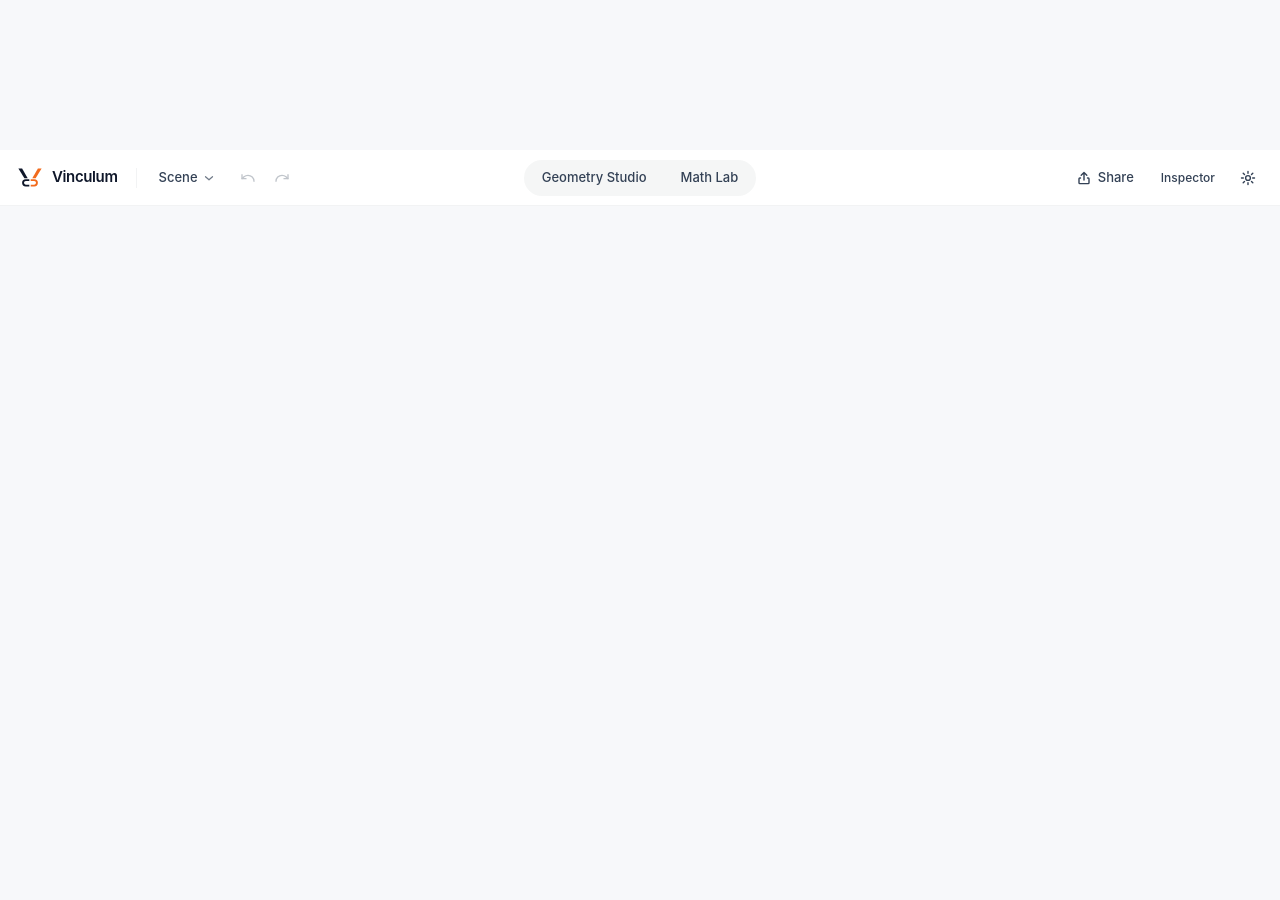
Test: PNG export feedback › clears 2D pending state after capture failure so the user can retry
This screenshot has width=1280, height=900.
Click the button "Share" at coordinates (1105, 178), box [1066, 162, 1144, 194]
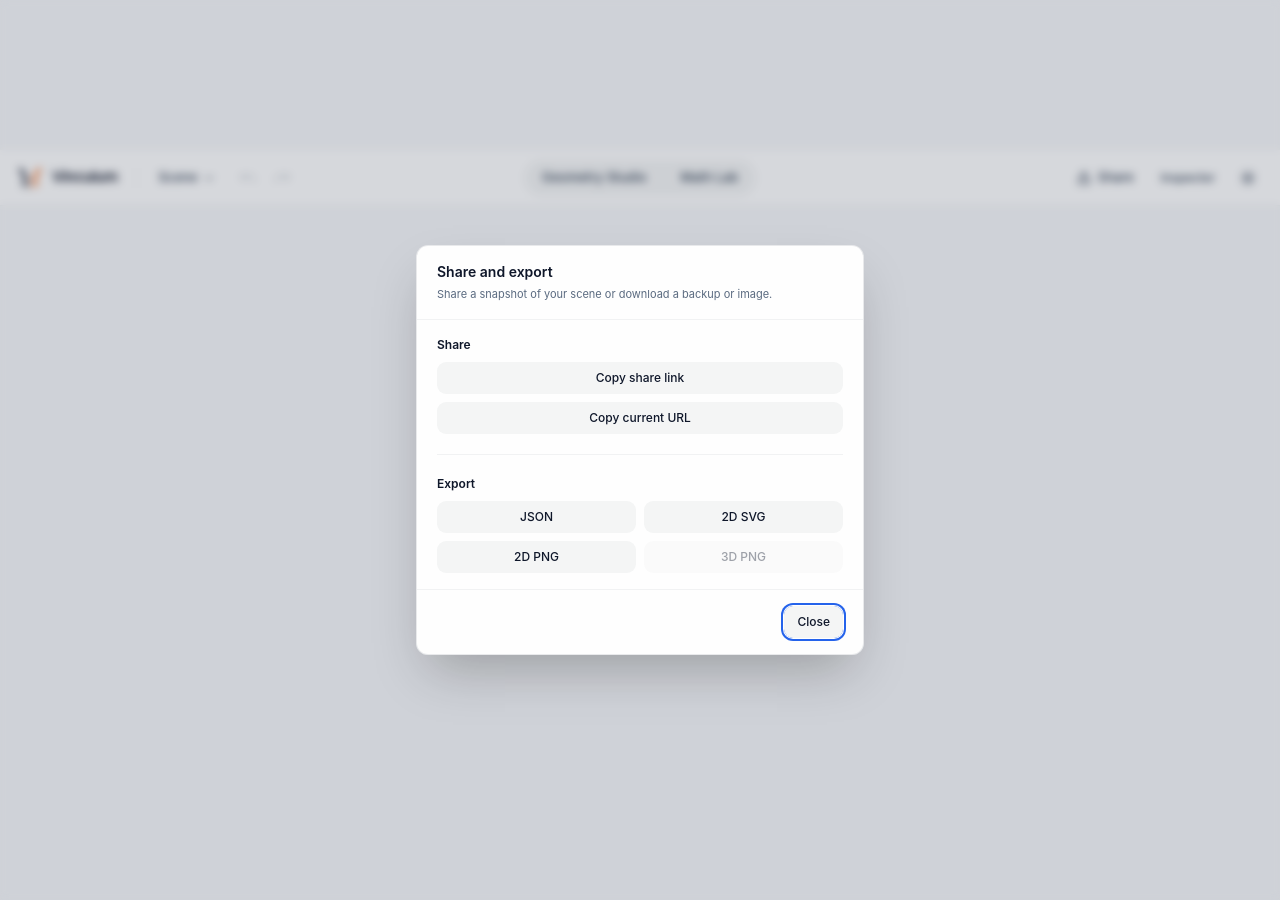
Click the button "2D PNG" at coordinates (536, 557), box [437, 541, 636, 573]
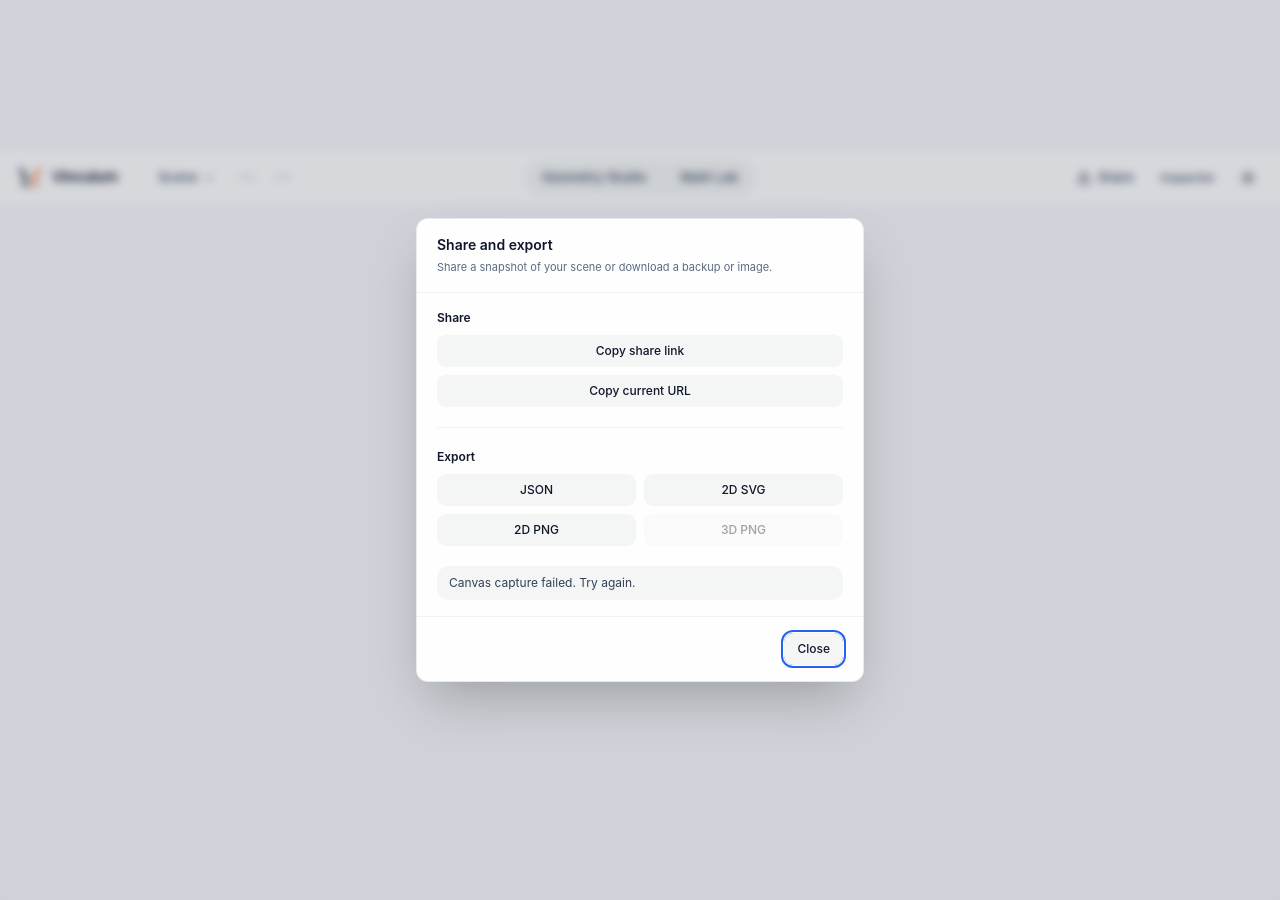
expect the button "2D PNG" is enabled: met
expect the message reads "Canvas capture failed. Try again.": met, box [449, 575, 636, 590]
Click the button "2D PNG" at coordinates (536, 530), box [437, 514, 636, 546]
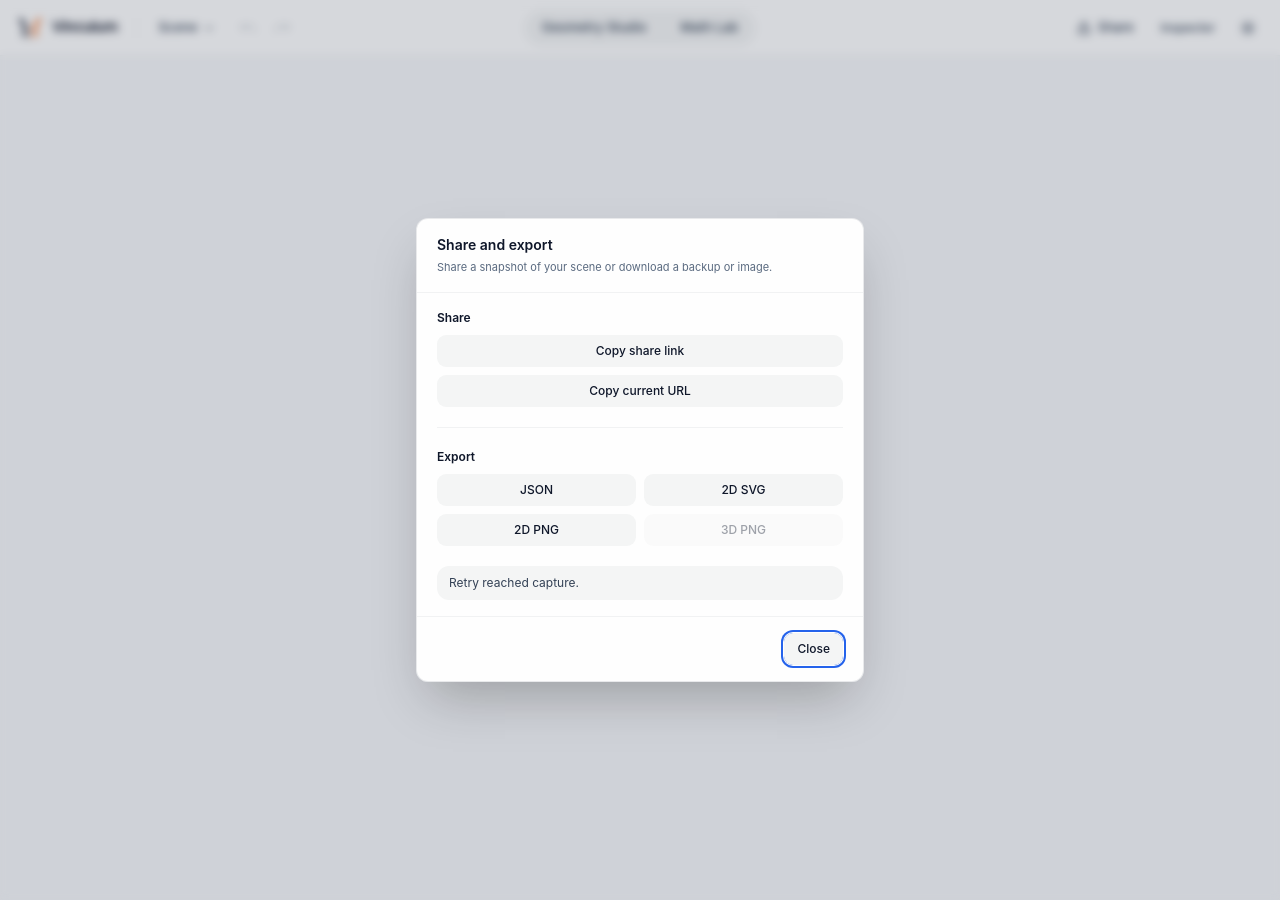
expect the message reads "Retry reached capture.": met, box [449, 575, 579, 590]
